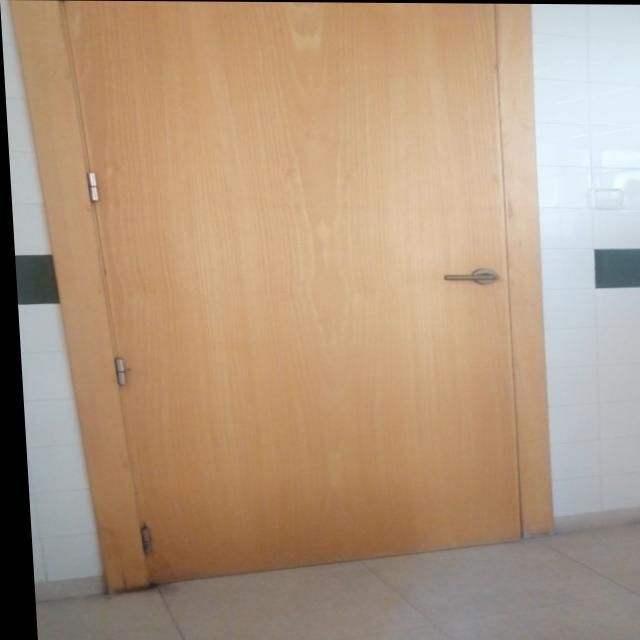door_handle: (436, 272, 498, 281)
